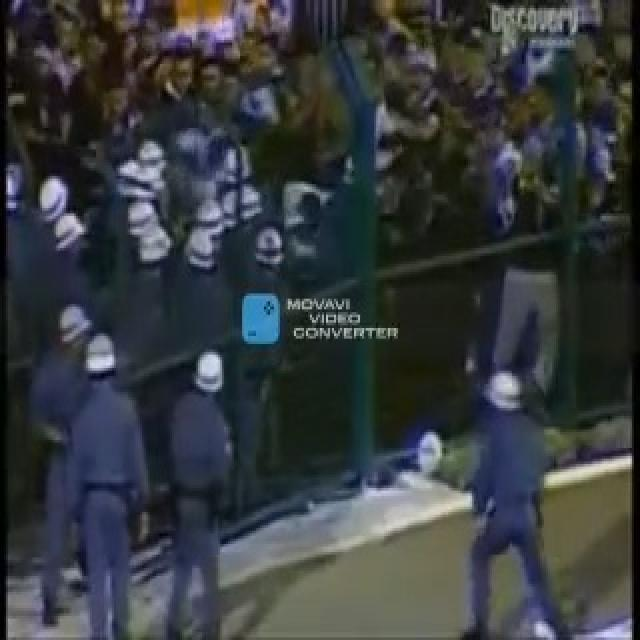non-voilence: (2, 0, 636, 637), (456, 366, 574, 638), (64, 331, 150, 637), (160, 350, 234, 638)
